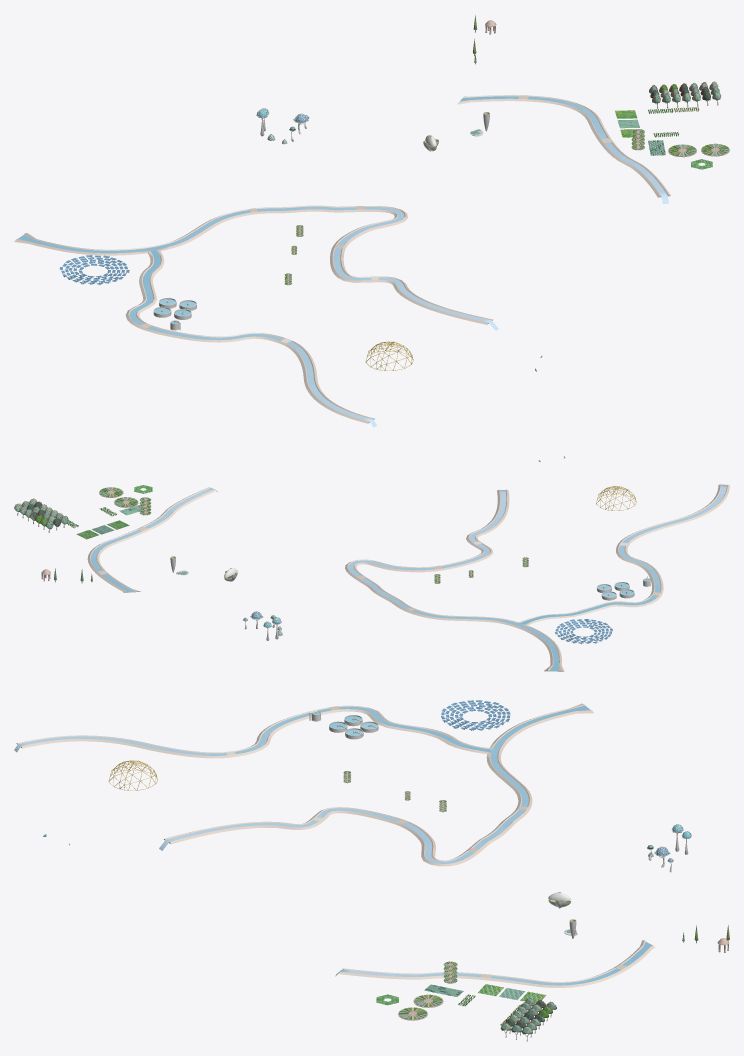
File: map_E.glb
The picture shows the model from 3 angles, top to bottom: view 1: azimuth 30°, elevation 25°; view 2: azimuth 150°, elevation 25°; view 3: azimuth 270°, elevation 25°; orthographic projection. The views are drawn at different scales.
Parts seen in each view (by area): view 1: river_city_1, river_city, tree farm, Solar-Geo.001, S_Sewage_asset; view 2: river_city_1, river_city, tree farm, Solar-Geo.001, S_Sewage_asset, Sphere, round_farm.001; view 3: river_city_1, river_city, tree farm, Solar-Geo.001, S_Sewage_asset, Sphere, round_farm.001.
Part boxes in pixels (<box>): river_city_1: <box>14,95,670,423</box>; river_city: <box>18,96,668,427</box>; tree farm: <box>649,81,720,108</box>; Solar-Geo.001: <box>59,255,129,284</box>; S_Sewage_asset: <box>153,297,196,319</box>; river_city_1: <box>87,484,729,671</box>; river_city: <box>90,484,726,670</box>; tree farm: <box>14,498,68,532</box>; Solar-Geo.001: <box>555,619,612,644</box>; S_Sewage_asset: <box>596,582,634,600</box>; Sphere: <box>596,486,636,510</box>; round_farm.001: <box>114,497,151,515</box>; river_city_1: <box>16,703,655,987</box>; river_city: <box>14,705,651,985</box>; tree farm: <box>500,998,556,1041</box>; Solar-Geo.001: <box>441,700,510,730</box>; S_Sewage_asset: <box>329,715,378,739</box>; Sphere: <box>108,760,157,790</box>; round_farm.001: <box>413,961,457,1007</box>.
Size of the model in its own units: 216 by 15.84 by 192.
2 materials, 1 textured.
